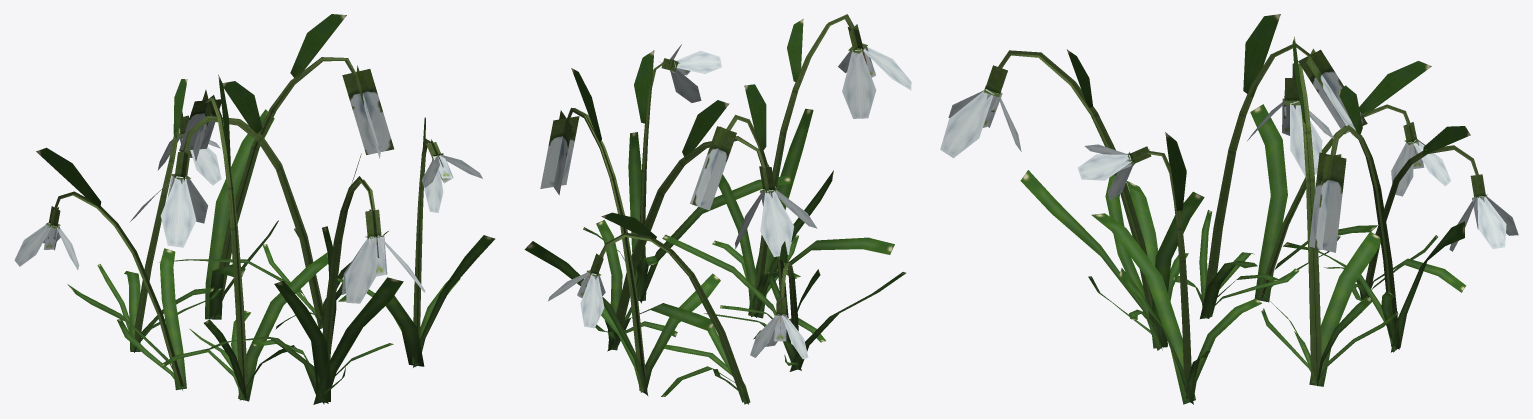
Rendered from miracle-snowdrop-1.glb.
The picture shows the model from 3 angles, left to right: view 1: azimuth 30°, elevation 25°; view 2: azimuth 150°, elevation 25°; view 3: azimuth 270°, elevation 25°; orthographic projection. The views are drawn at different scales.
Visible parts, largest first — view 1: snowdrop_group_1_LOD1_Snowdrop_2048_0; view 2: snowdrop_group_1_LOD1_Snowdrop_2048_0; view 3: snowdrop_group_1_LOD1_Snowdrop_2048_0.
Boxes of the visible parts, <box> form: snowdrop_group_1_LOD1_Snowdrop_2048_0: <box>14,14,495,404</box>; snowdrop_group_1_LOD1_Snowdrop_2048_0: <box>524,14,911,404</box>; snowdrop_group_1_LOD1_Snowdrop_2048_0: <box>940,14,1518,404</box>.
Bounding box in the file's own units: 0.4856 × 0.38 × 0.6375.
1 material, 1 textured.
